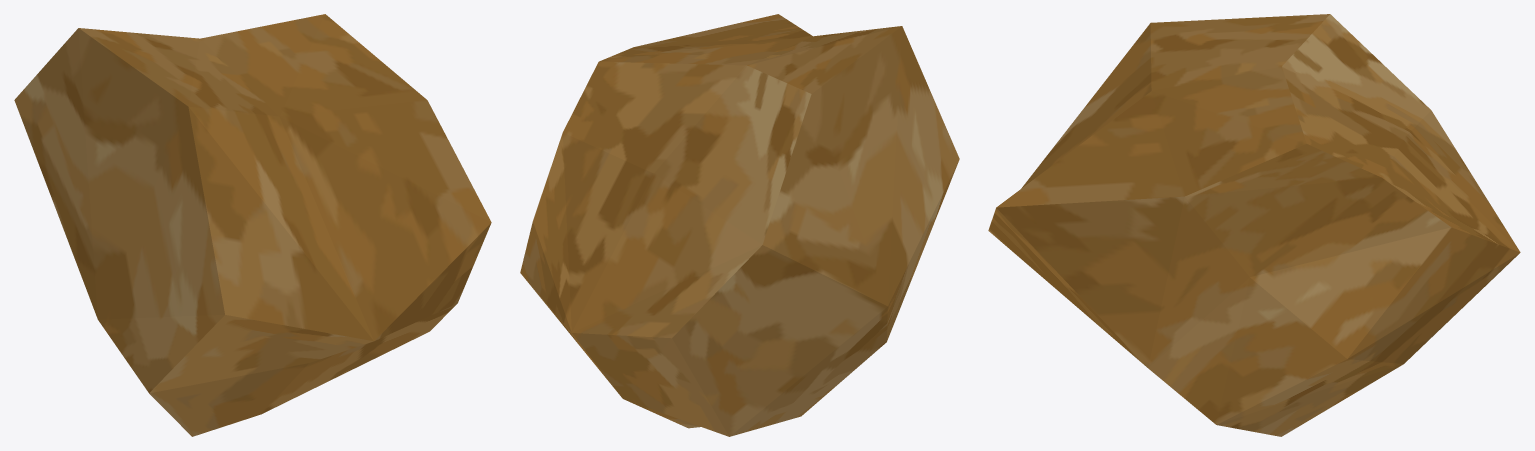
Rendered from pedrolo3.glb.
The picture shows the model from 3 angles, left to right: view 1: azimuth 30°, elevation 25°; view 2: azimuth 150°, elevation 25°; view 3: azimuth 270°, elevation 25°; orthographic projection. The views are drawn at different scales.
Parts seen in each view (by area): view 1: hojas2.001; view 2: hojas2.001; view 3: hojas2.001.
Boxes of the visible parts, x1,y1,x2,y2 form: hojas2.001: (14,14,491,436); hojas2.001: (520,14,959,436); hojas2.001: (988,14,1520,436).
Size of the model in its own units: 16.88 by 20.27 by 27.45.
Materials: 1 (1 with a texture image).
